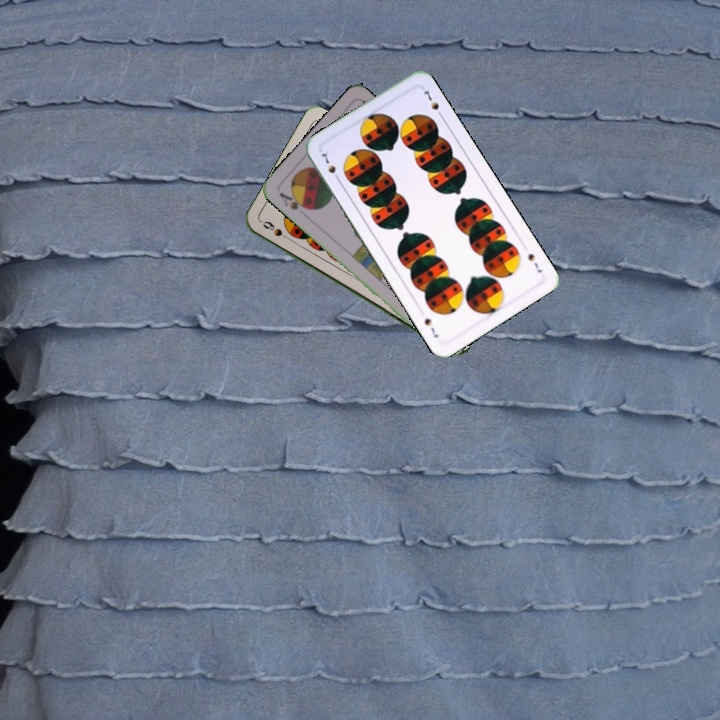S7: (318, 147, 343, 184), (524, 249, 545, 275)
S9: (259, 218, 295, 244)
SA: (275, 188, 312, 213)
